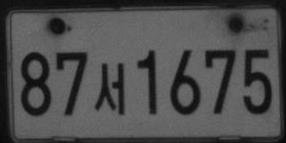1: (134, 49, 163, 114)
5: (242, 48, 273, 115)
6: (169, 49, 200, 115)
7: (204, 49, 237, 114), (56, 51, 88, 116)
8: (19, 51, 52, 116)
서: (94, 63, 126, 114)
